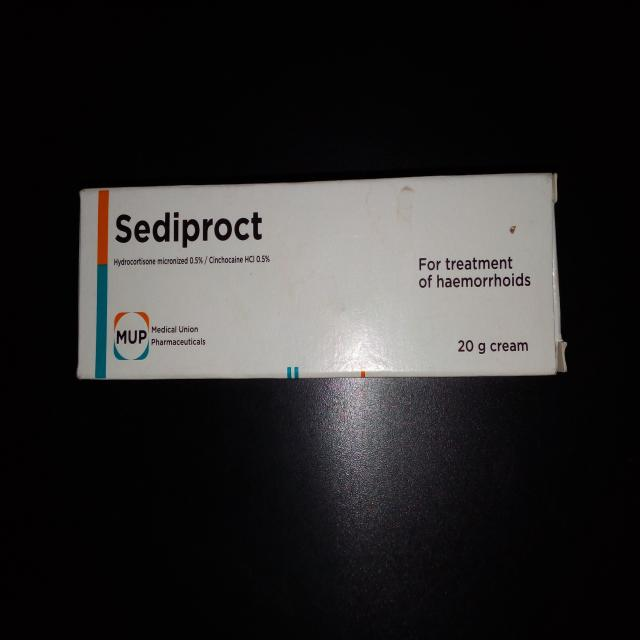Medicine: (72, 167, 571, 383)
